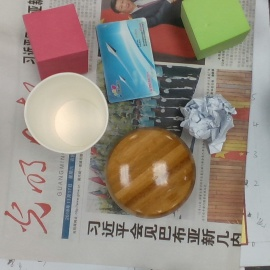card: (95, 17, 161, 103)
chess: (103, 123, 196, 220)
cup: (25, 72, 108, 158)
